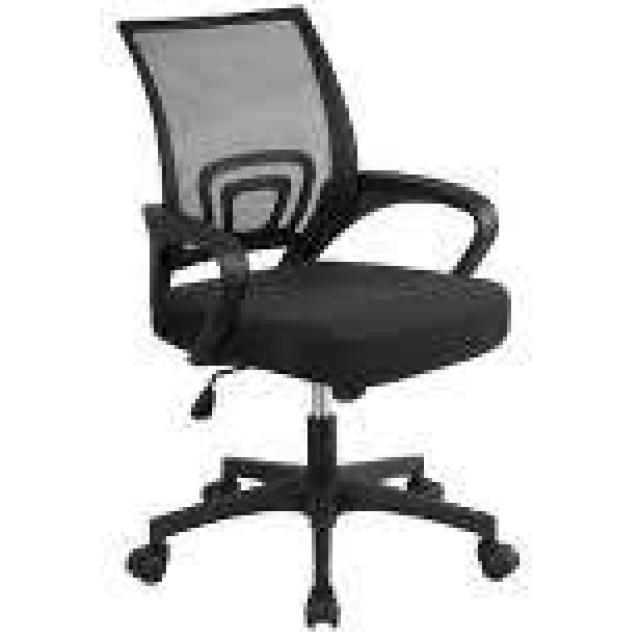chair: (43, 0, 592, 640)
